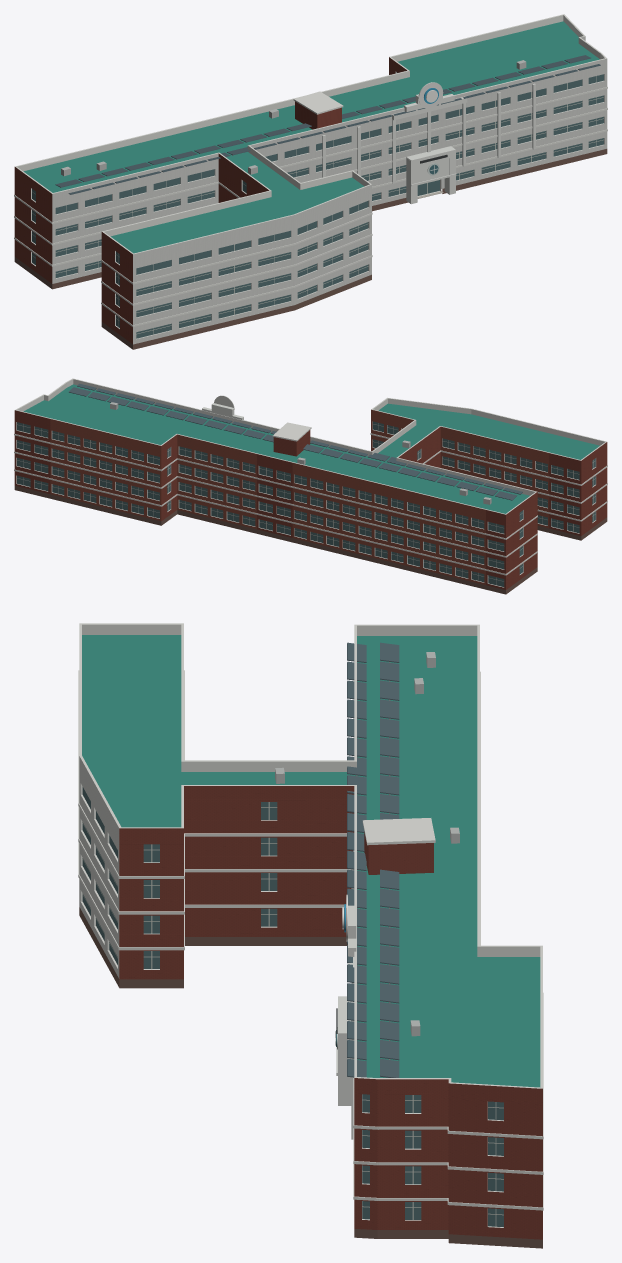
3 views of the same model, one above another, from view 1: azimuth 30°, elevation 25°; view 2: azimuth 150°, elevation 25°; view 3: azimuth 270°, elevation 25° (orthographic). The views are drawn at different scales.
Parts seen in each view (by area): view 1: wing1__front-stone, wing1__roof, wing1__trim-concrete, wing1__glass, wing1__brick, wing1__entrance-pier, wing1__solar-panel, wing1__base-stone, wing1__frame; view 2: wing1__wall-plaster, wing1__glass, wing1__roof, wing1__trim-concrete, wing1__brick, wing1__solar-panel, wing1__base-stone, wing1__frame, wing1__entrance-pier, wing1__equipment; view 3: wing1__roof, wing1__brick, wing1__trim-concrete, wing1__solar-panel, wing1__glass, wing1__front-stone, wing1__base-stone, wing1__entrance-pier, wing1__frame.
Boxes of the visible parts, left/top/right/bottom form: wing1__front-stone: left=52, top=36, right=607, bottom=344; wing1__roof: left=23, top=21, right=599, bottom=253; wing1__trim-concrete: left=14, top=14, right=607, bottom=339; wing1__glass: left=32, top=72, right=603, bottom=338; wing1__brick: left=14, top=57, right=406, bottom=344; wing1__entrance-pier: left=322, top=83, right=535, bottom=204; wing1__solar-panel: left=55, top=55, right=600, bottom=194; wing1__base-stone: left=14, top=149, right=607, bottom=349; wing1__frame: left=32, top=76, right=603, bottom=334; wing1__wall-plaster: left=50, top=409, right=549, bottom=584; wing1__glass: left=17, top=421, right=595, bottom=586; wing1__roof: left=23, top=384, right=599, bottom=513; wing1__trim-concrete: left=14, top=378, right=607, bottom=587; wing1__brick: left=14, top=410, right=607, bottom=589; wing1__solar-panel: left=69, top=383, right=522, bottom=500; wing1__base-stone: left=14, top=485, right=607, bottom=594; wing1__frame: left=17, top=423, right=595, bottom=584; wing1__entrance-pier: left=202, top=403, right=243, bottom=419; wing1__equipment: left=110, top=402, right=491, bottom=504; wing1__roof: left=82, top=635, right=540, bottom=1087; wing1__brick: left=119, top=786, right=542, bottom=1239; wing1__trim-concrete: left=78, top=623, right=543, bottom=1227; wing1__solar-panel: left=347, top=642, right=399, bottom=1077; wing1__glass: left=82, top=787, right=503, bottom=1227; wing1__front-stone: left=79, top=756, right=119, bottom=978; wing1__base-stone: left=79, top=907, right=542, bottom=1248; wing1__entrance-pier: left=336, top=869, right=356, bottom=1139; wing1__frame: left=82, top=802, right=503, bottom=1226.
Size of the model in its own units: 101 by 19.7 by 42.66.
Materials: 20 (3 with a texture image).
